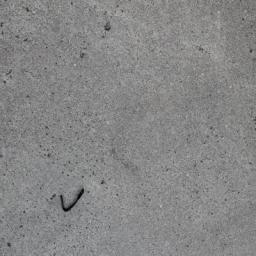FOD: (58, 187, 89, 214)
